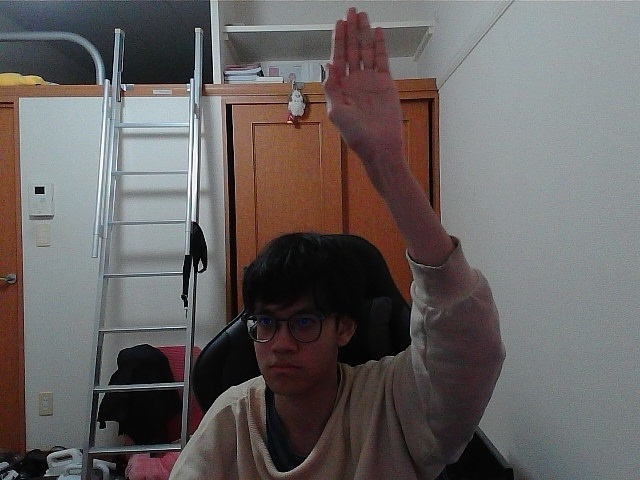open_palm: (331, 14, 383, 129)
